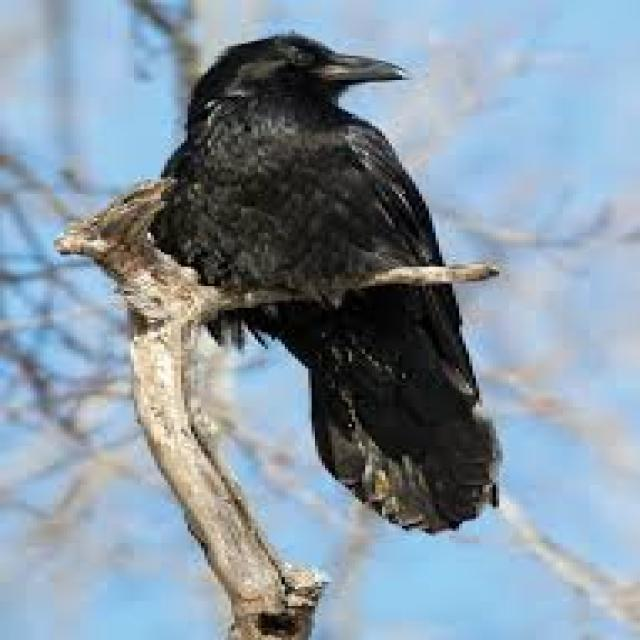crow: (204, 14, 466, 312)
